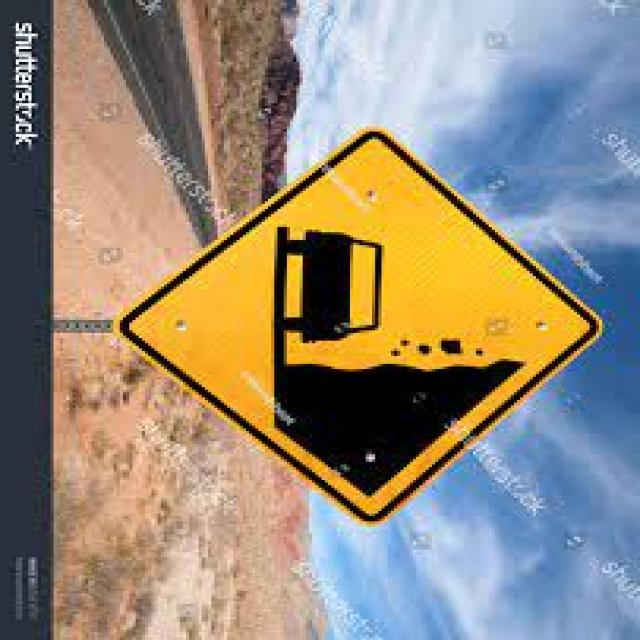Traffic sign: (112, 122, 604, 530)
